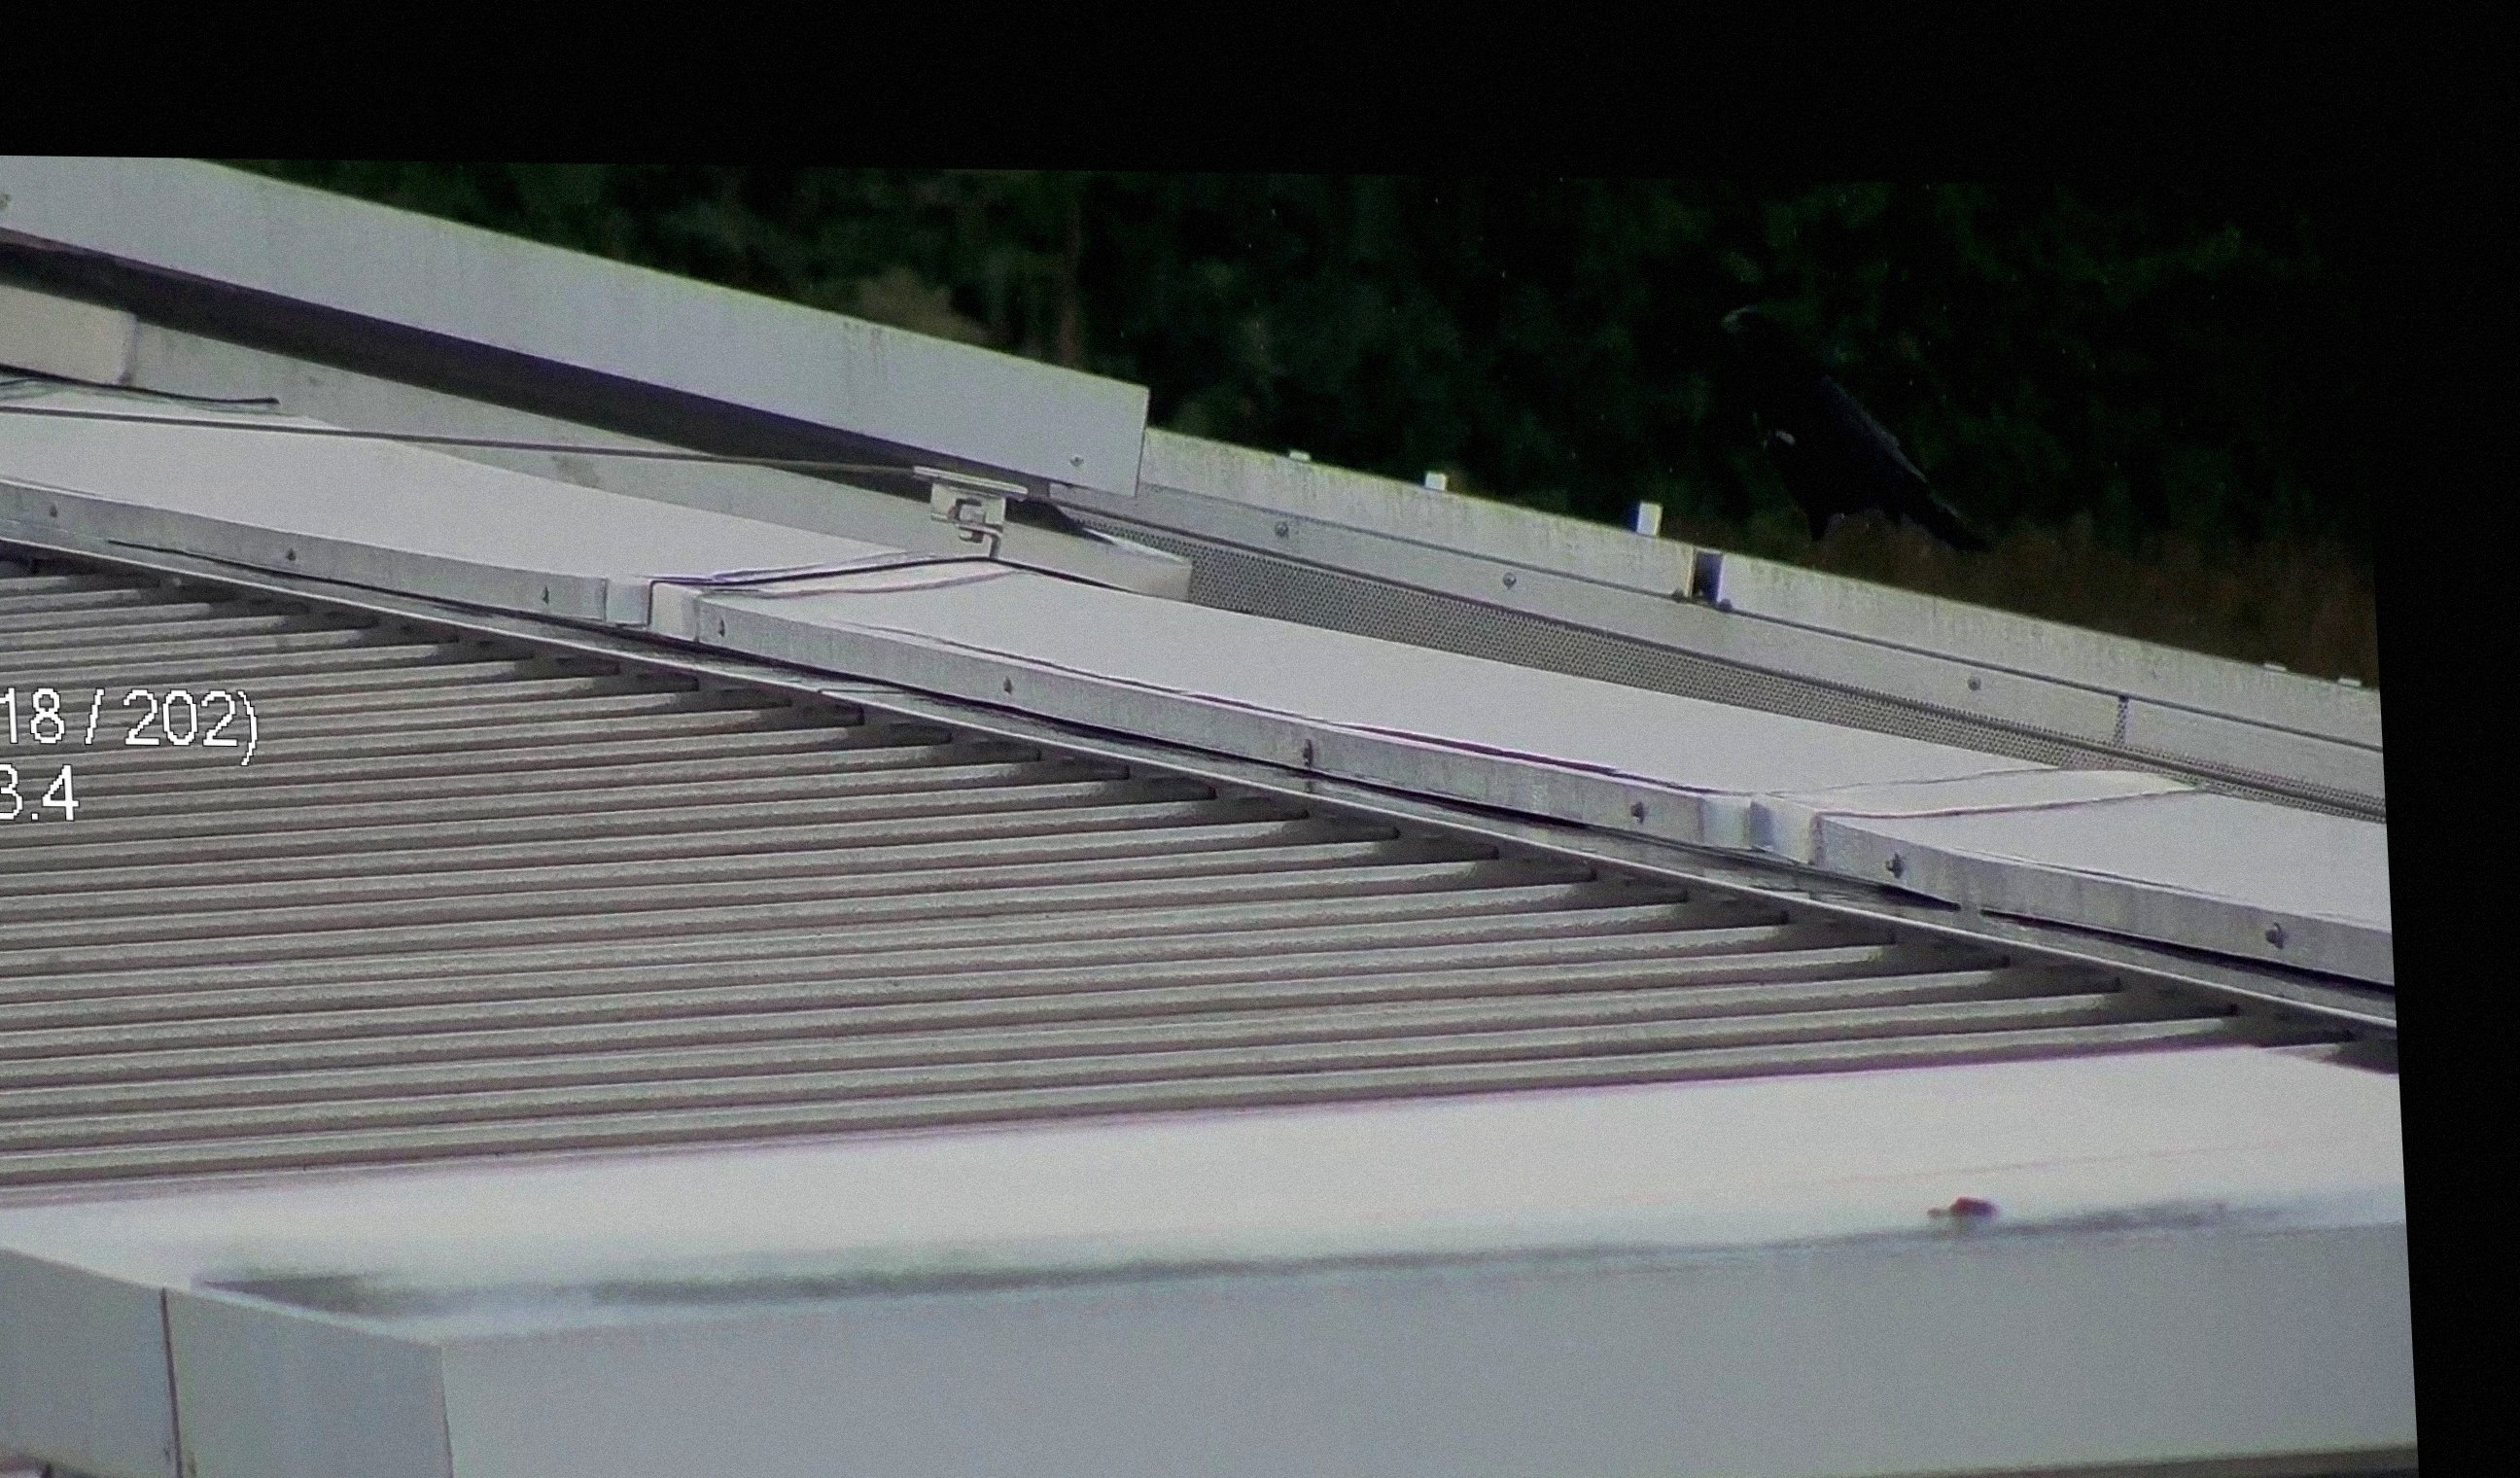Other: (1718, 296, 2003, 574)
